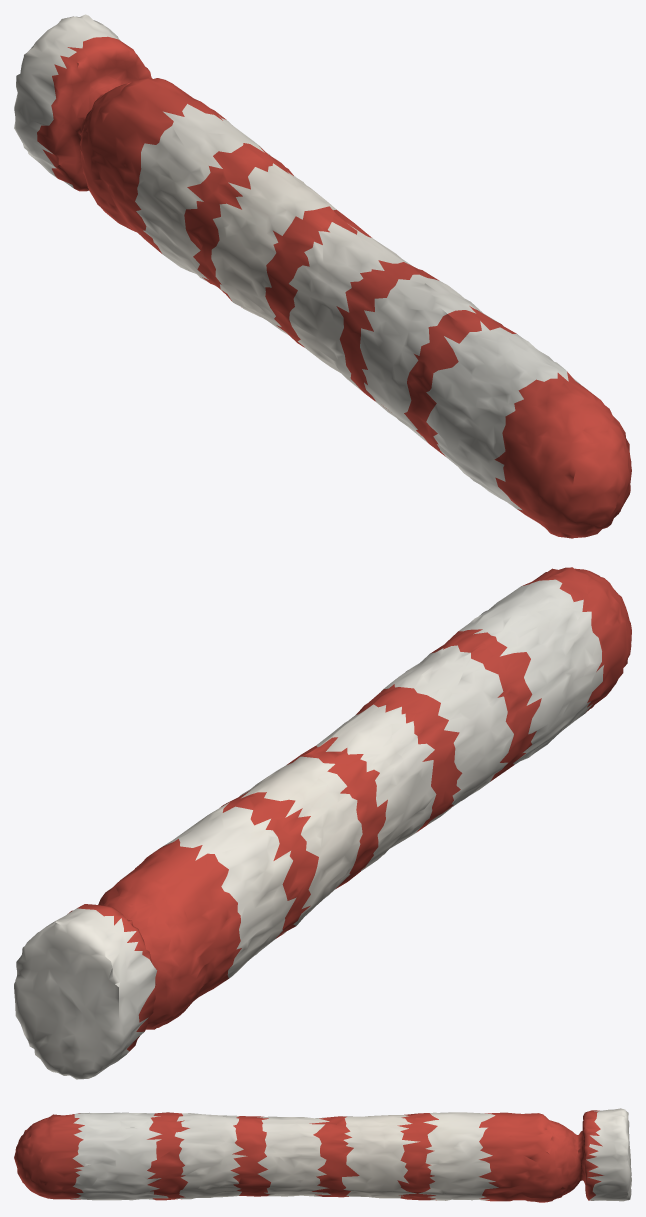
File: den_sock.glb
3 renders of one model, top to bottom at view 1: azimuth 30°, elevation 25°; view 2: azimuth 150°, elevation 25°; view 3: azimuth 270°, elevation 25°, orthographic. The views are drawn at different scales.
Visible parts, largest first — view 1: den_sock; view 2: den_sock; view 3: den_sock.
Boxes of the visible parts, box(x1,y1,x2,y2) form: den_sock: box(14, 14, 631, 538); den_sock: box(14, 567, 631, 1079); den_sock: box(14, 1108, 631, 1202).
Bounding box in the file's own units: 2.85 × 3.67 × 23.86.
